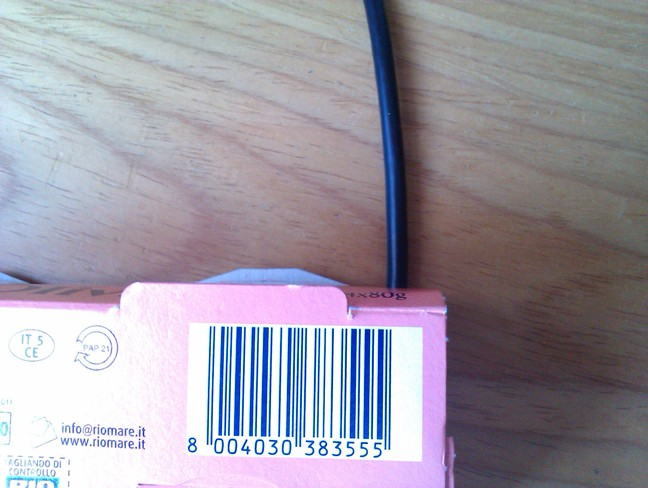detection: (187, 323, 420, 460)
